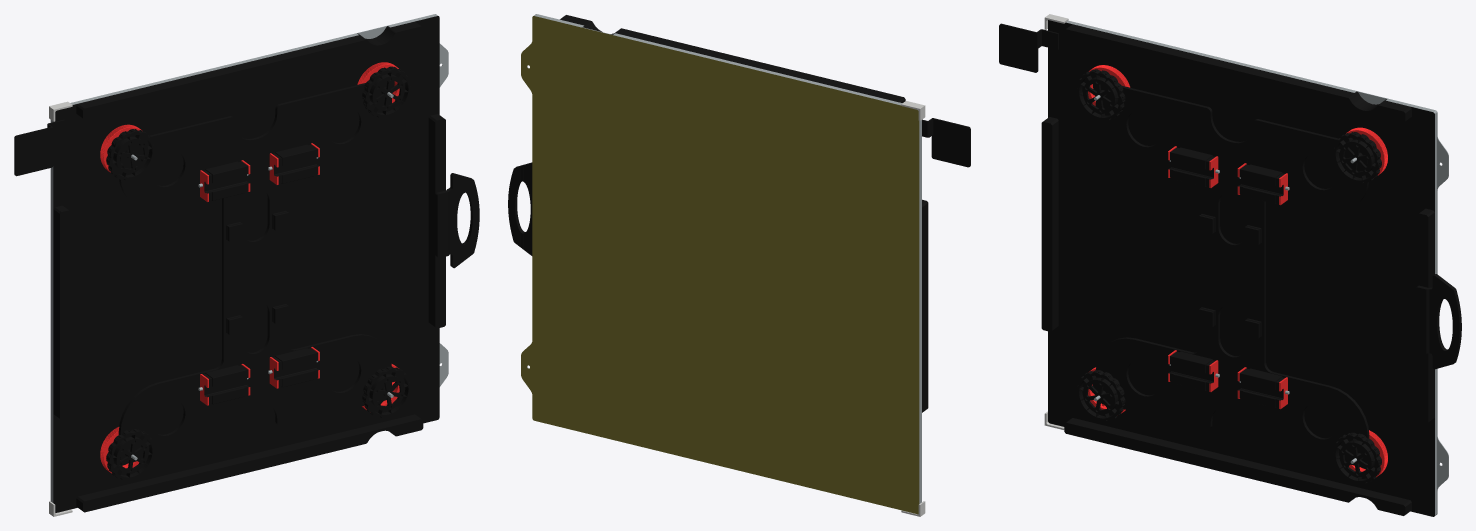
The model's file is Printing Bed.fbx.
The picture shows the model from 3 angles, left to right: view 1: azimuth 30°, elevation 25°; view 2: azimuth 150°, elevation 25°; view 3: azimuth 330°, elevation 25°; orthographic projection.
Visible parts, largest first — view 1: Part 2, Part 51, Part, Part 53, Part 54, Part 50, Part 36, Part 45, Part 42, Part 37, Part 44, Part 52 (+4 smaller); view 2: Part 9, Part 45, Part 42, Part 50, Part 44, Part 4, Part 3; view 3: Part 2, Part 51, Part, Part 53, Part 54, Part 50, Part 36, Part 45, Part 37, Part 42, Part 52, Part 55 (+4 smaller).
Boxes of the visible parts, bbox=[...] form: Part 2: bbox=[53, 16, 439, 512]; Part 51: bbox=[118, 81, 391, 463]; Part: bbox=[54, 26, 444, 512]; Part 53: bbox=[106, 66, 411, 480]; Part 54: bbox=[204, 144, 319, 403]; Part 50: bbox=[435, 173, 479, 268]; Part 36: bbox=[78, 414, 421, 501]; Part 45: bbox=[78, 35, 365, 108]; Part 42: bbox=[14, 127, 53, 176]; Part 37: bbox=[435, 119, 445, 328]; Part 44: bbox=[53, 209, 59, 418]; Part 52: bbox=[100, 62, 399, 473]; Part 9: bbox=[521, 16, 919, 514]; Part 45: bbox=[615, 28, 903, 101]; Part 42: bbox=[931, 119, 970, 167]; Part 50: bbox=[508, 162, 532, 255]; Part 44: bbox=[922, 203, 928, 412]; Part 4: bbox=[919, 120, 921, 503]; Part 3: bbox=[535, 14, 902, 105]; Part 2: bbox=[1048, 20, 1434, 516]; Part 51: bbox=[1095, 84, 1369, 466]; Part: bbox=[1041, 29, 1434, 515]; Part 53: bbox=[1076, 69, 1381, 484]; Part 54: bbox=[1168, 147, 1283, 407]; Part 50: bbox=[1415, 274, 1461, 369]; Part 36: bbox=[1066, 418, 1409, 504]; Part 45: bbox=[1066, 24, 1354, 97]; Part 37: bbox=[1417, 213, 1428, 423]; Part 42: bbox=[999, 24, 1037, 72]; Part 52: bbox=[1088, 65, 1387, 477]; Part 55: bbox=[1168, 146, 1287, 409].
Size of the model in its own units: 60.44 by 50.9 by 4.7.
